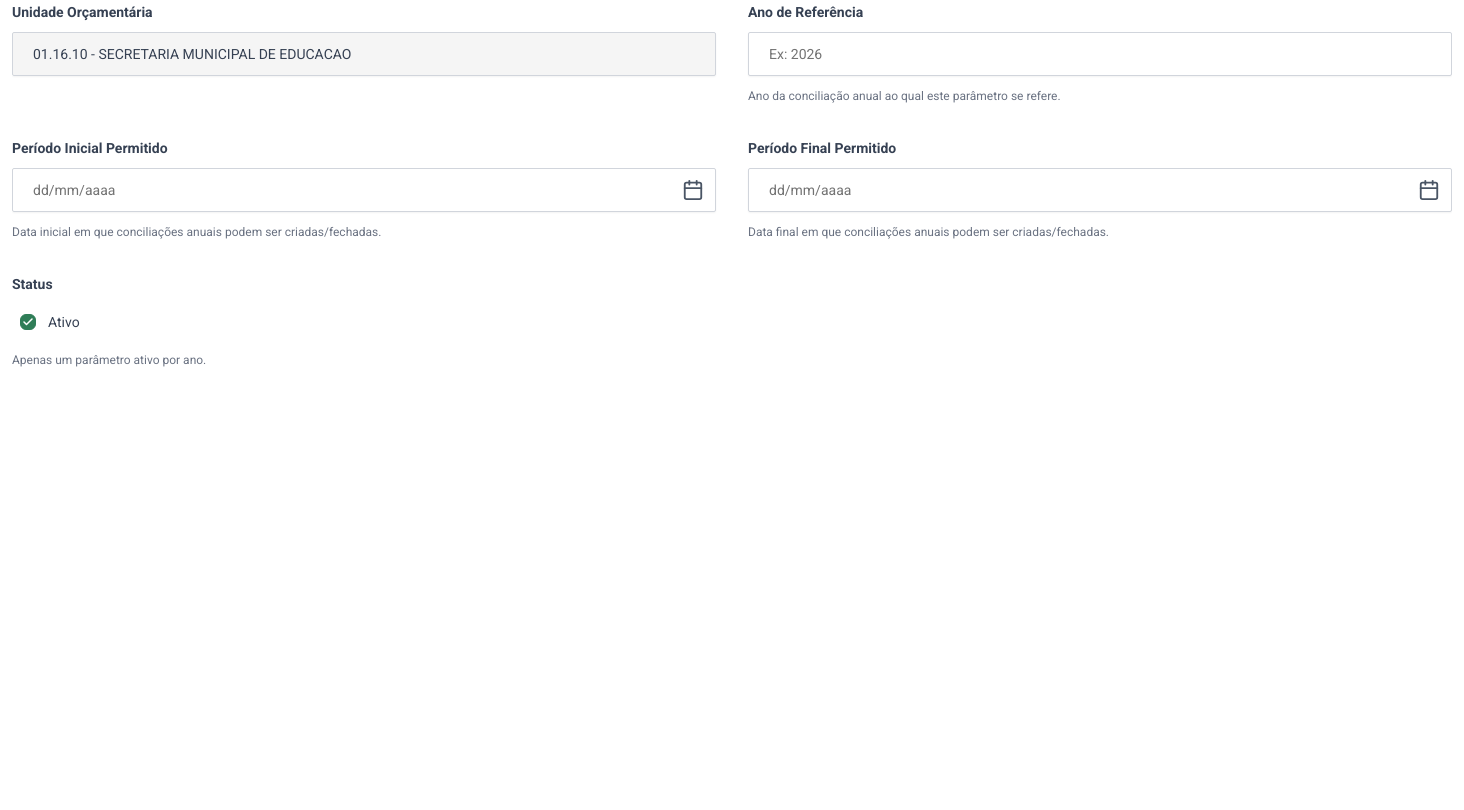
Scenario: ParametroConciliacaoForm › fecha o calendario ao clicar fora
Click the 1st button named "Selecionar data".
click(693, 190)  # box [682,179,704,201]
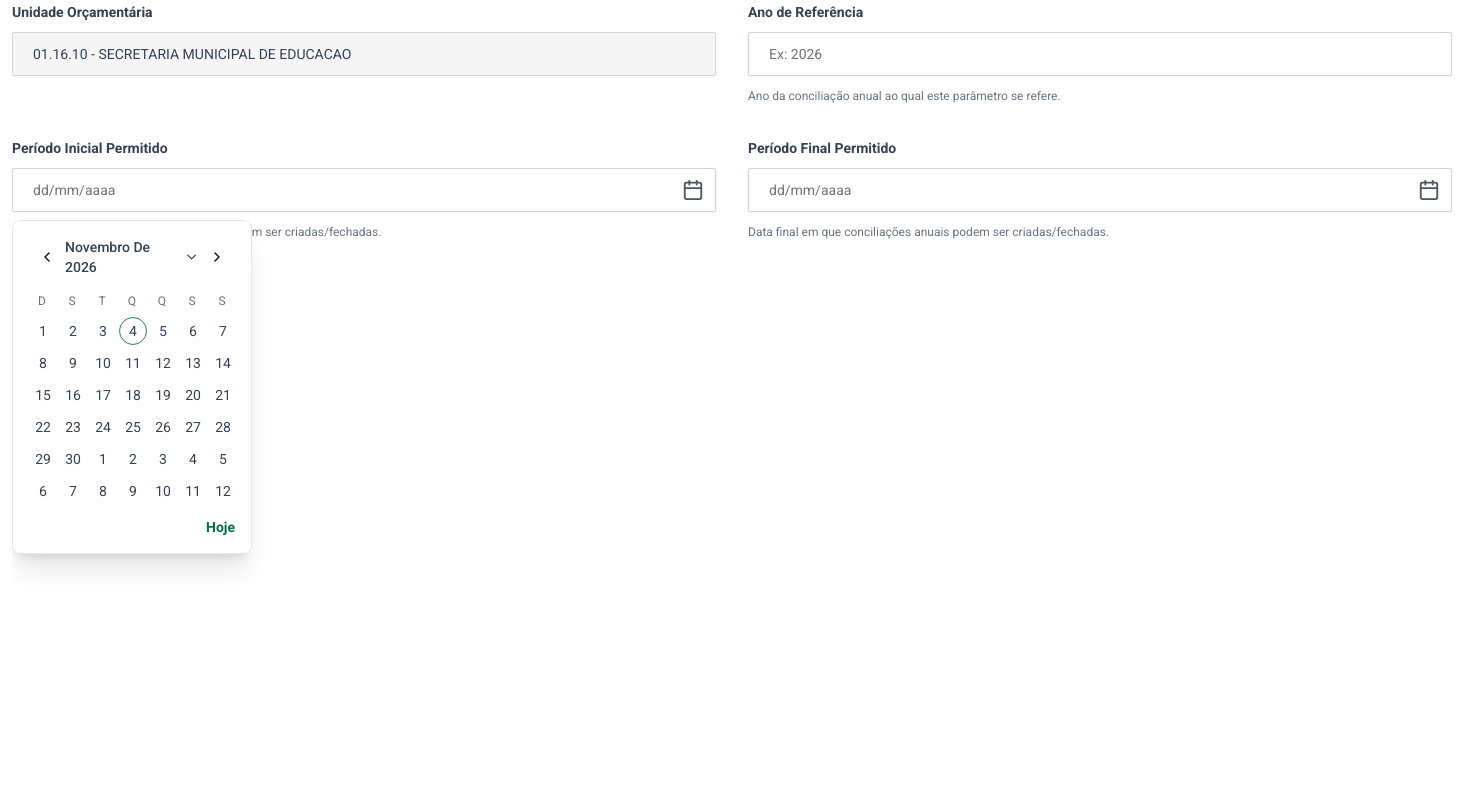
Expected: the button "Hoje" is shown, [206,517,235,537]
Press the mouse on the element that starts with "Unidade Orçamentária" at (732, 184), box [12,0,1452,368]
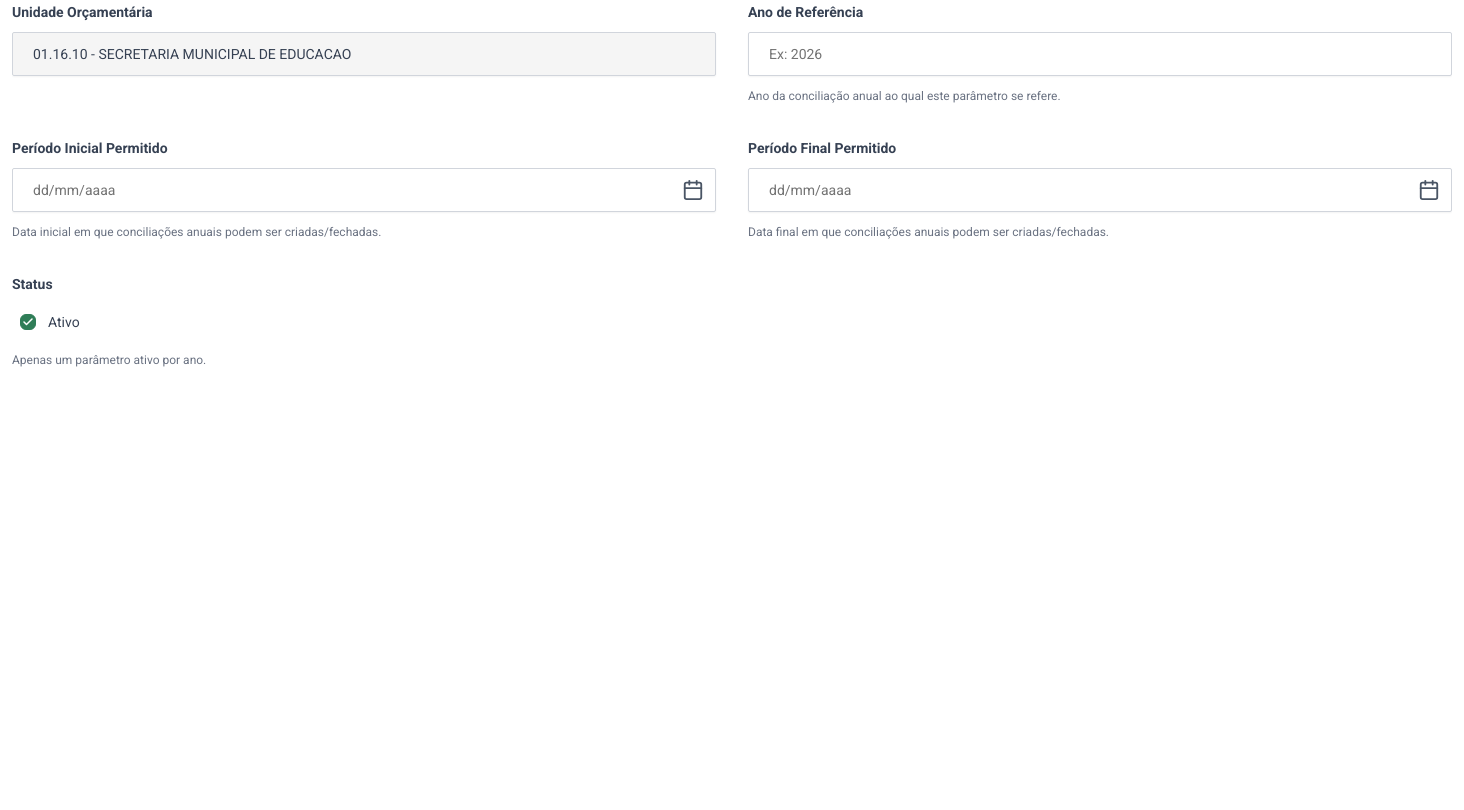
Expected: the button "Hoje" is gone
